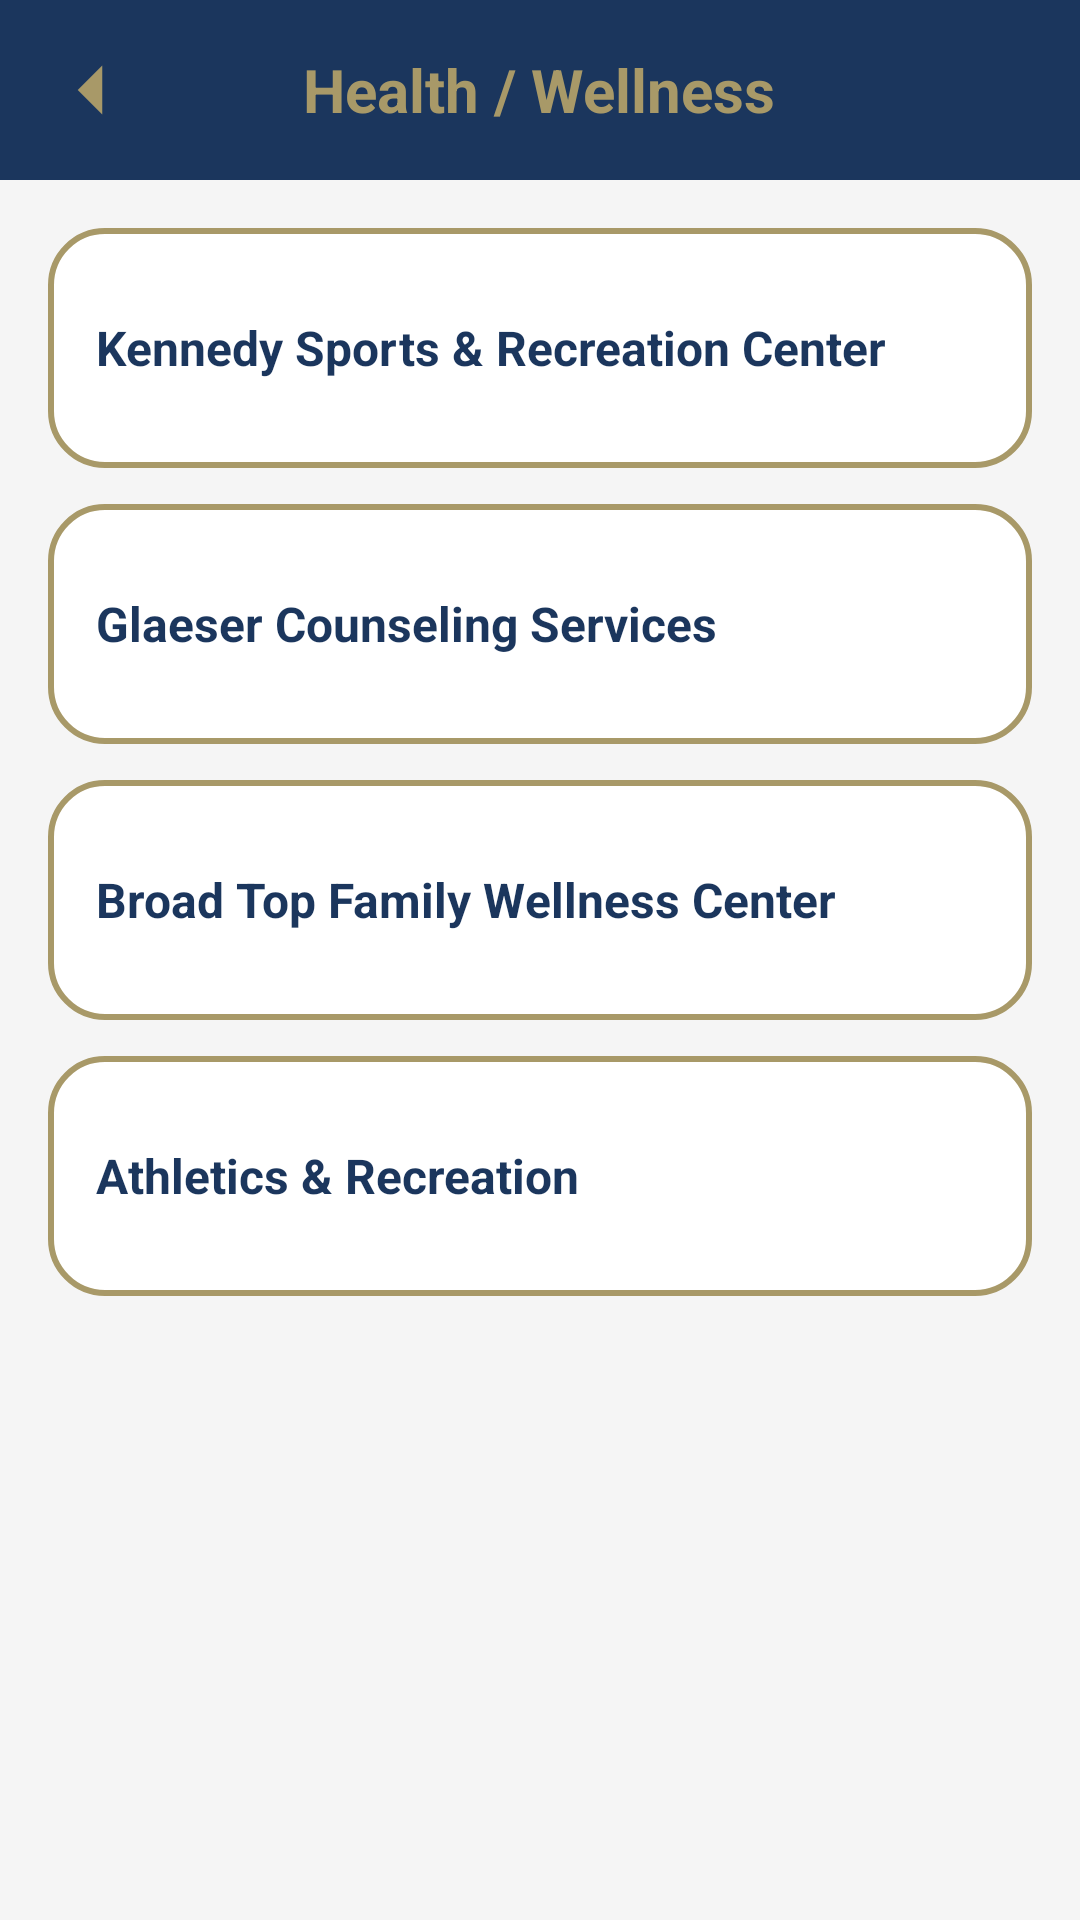

Where to tap for icons on this 1080 × 1920 app screen, as [x,y]:
back: [90,90]
